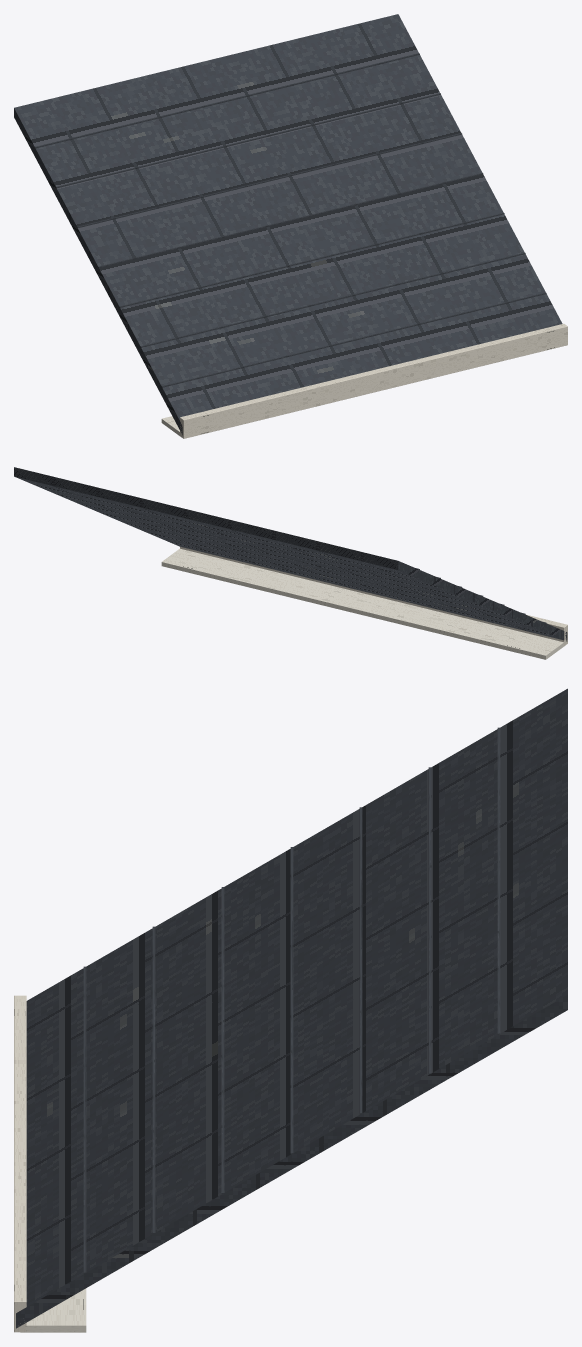
The model's file is house_03_roof_slope.glb.
3 renders of one model, top to bottom at view 1: azimuth 30°, elevation 25°; view 2: azimuth 150°, elevation 25°; view 3: azimuth 270°, elevation 25°, orthographic. The views are drawn at different scales.
Visible parts, largest first — view 1: house_03_roof_slope; view 2: house_03_roof_slope; view 3: house_03_roof_slope.
Part boxes in pixels (x1,y1,x2,y2): house_03_roof_slope: (14,14,567,438); house_03_roof_slope: (14,467,567,659); house_03_roof_slope: (14,688,567,1332).
Bounding box in the file's own units: 3.4 × 1.75 × 2.6.
Materials: 3 (3 with a texture image).
